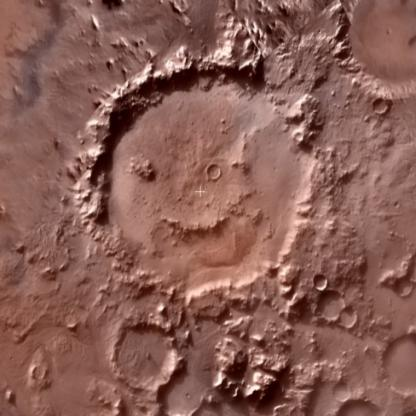craters: (61, 36, 335, 311), (97, 310, 197, 392), (212, 327, 286, 411), (193, 144, 244, 188), (314, 288, 346, 325), (22, 363, 62, 386), (338, 305, 366, 337), (127, 158, 155, 187), (302, 270, 340, 291), (366, 93, 396, 118)
